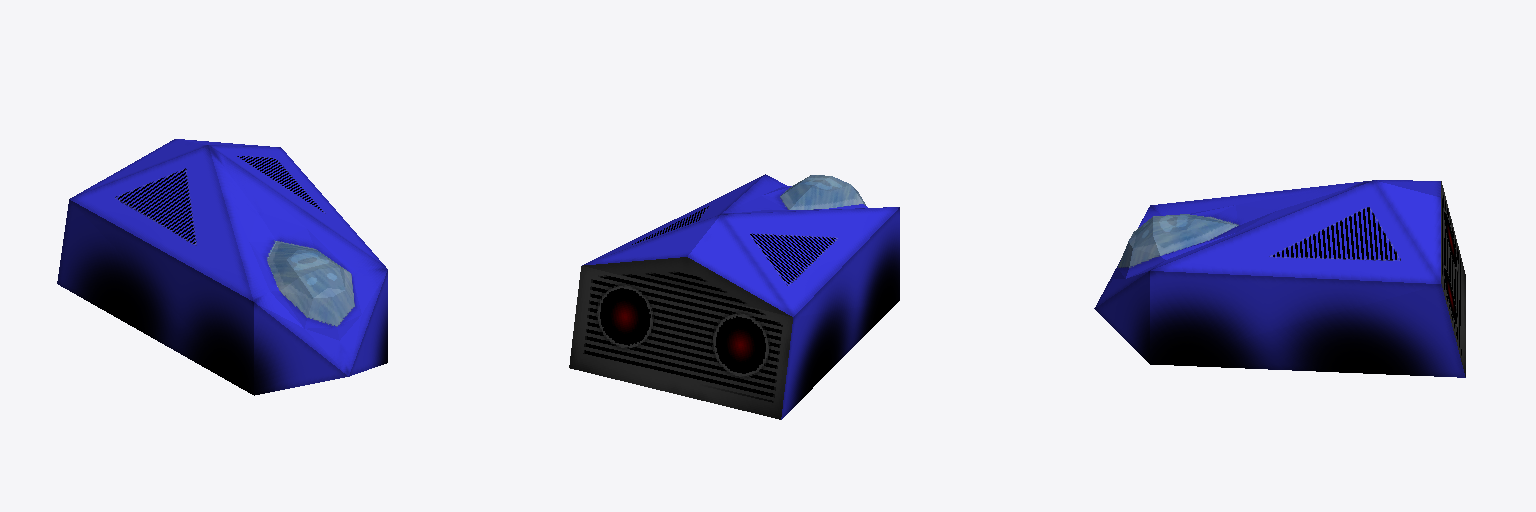
3 renders of one model, left to right at view 1: azimuth 30°, elevation 25°; view 2: azimuth 150°, elevation 25°; view 3: azimuth 270°, elevation 25°, orthographic.
Parts seen in each view (by area): view 1: caisse; view 2: caisse; view 3: caisse.
Part boxes in pixels (left/top/right/bottom): caisse: left=57, top=139, right=387, bottom=395; caisse: left=569, top=174, right=899, bottom=419; caisse: left=1094, top=180, right=1465, bottom=377.
Size of the model in its own units: 1.51 by 1.03 by 2.29.
1 materials, 1 textured.